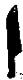Reed: (4, 3, 22, 79)
